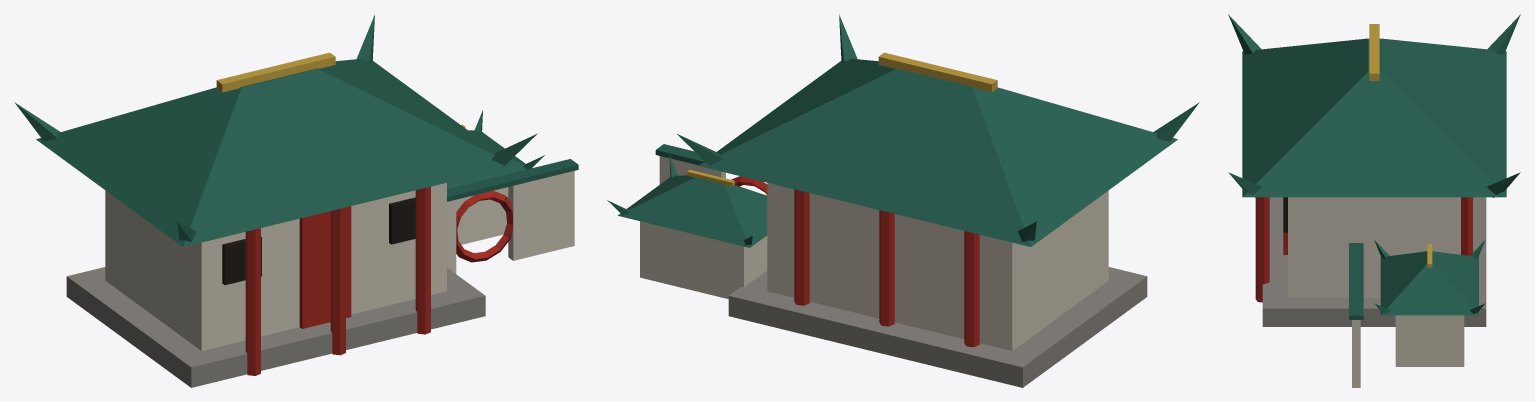
File: dragon_hall_broken.glb
The picture shows the model from 3 angles, left to right: view 1: azimuth 30°, elevation 25°; view 2: azimuth 150°, elevation 25°; view 3: azimuth 270°, elevation 25°; orthographic projection. The views are drawn at different scales.
Parts seen in each view (by area): view 1: dragon_hall_piece6, dragon_hall_piece13, dragon_hall_piece8, dragon_hall_piece10, dragon_hall_piece4, dragon_hall_piece3, dragon_hall_piece9, dragon_hall_piece2, dragon_hall_piece0, dragon_hall_piece11, dragon_hall_piece7, dragon_hall_piece1; view 2: dragon_hall_piece1, dragon_hall_piece5, dragon_hall_piece7, dragon_hall_piece13, dragon_hall_piece9, dragon_hall_piece0, dragon_hall_piece6, dragon_hall_piece2, dragon_hall_piece4, dragon_hall_piece8, dragon_hall_piece3; view 3: dragon_hall_piece8, dragon_hall_piece2, dragon_hall_piece3, dragon_hall_piece1, dragon_hall_piece4, dragon_hall_piece7, dragon_hall_piece11, dragon_hall_piece9, dragon_hall_piece6, dragon_hall_piece13, dragon_hall_piece5, dragon_hall_piece10 (+1 smaller).
Part boxes in pixels (x1,y1,x2,y2): dragon_hall_piece6: (128, 150, 344, 387); dragon_hall_piece13: (67, 99, 318, 341); dragon_hall_piece8: (310, 52, 472, 244); dragon_hall_piece10: (259, 210, 376, 374); dragon_hall_piece4: (434, 107, 578, 315); dragon_hall_piece3: (410, 97, 506, 334); dragon_hall_piece9: (14, 71, 291, 162); dragon_hall_piece2: (328, 59, 456, 342); dragon_hall_piece0: (66, 190, 137, 330); dragon_hall_piece11: (363, 80, 441, 322); dragon_hall_piece7: (255, 54, 337, 118); dragon_hall_piece1: (352, 15, 479, 240); dragon_hall_piece1: (618, 134, 869, 327); dragon_hall_piece5: (775, 205, 997, 381); dragon_hall_piece7: (860, 56, 960, 294); dragon_hall_piece13: (997, 87, 1152, 352); dragon_hall_piece9: (953, 69, 1062, 272); dragon_hall_piece0: (958, 243, 1069, 387); dragon_hall_piece6: (1063, 102, 1199, 342); dragon_hall_piece2: (718, 77, 870, 205); dragon_hall_piece4: (634, 14, 857, 203); dragon_hall_piece8: (788, 52, 898, 108); dragon_hall_piece3: (607, 112, 773, 215); dragon_hall_piece8: (1242, 67, 1408, 219); dragon_hall_piece2: (1269, 95, 1468, 326); dragon_hall_piece3: (1255, 190, 1485, 366); dragon_hall_piece1: (1417, 111, 1520, 366); dragon_hall_piece4: (1228, 169, 1450, 387); dragon_hall_piece7: (1325, 41, 1506, 121); dragon_hall_piece11: (1255, 149, 1438, 278); dragon_hall_piece9: (1347, 14, 1520, 82); dragon_hall_piece6: (1228, 14, 1297, 213); dragon_hall_piece13: (1281, 39, 1357, 92); dragon_hall_piece5: (1473, 197, 1486, 283); dragon_hall_piece10: (1269, 213, 1287, 260).
Bounding box in the file's own units: 6.93 × 3.36 × 4.18.
